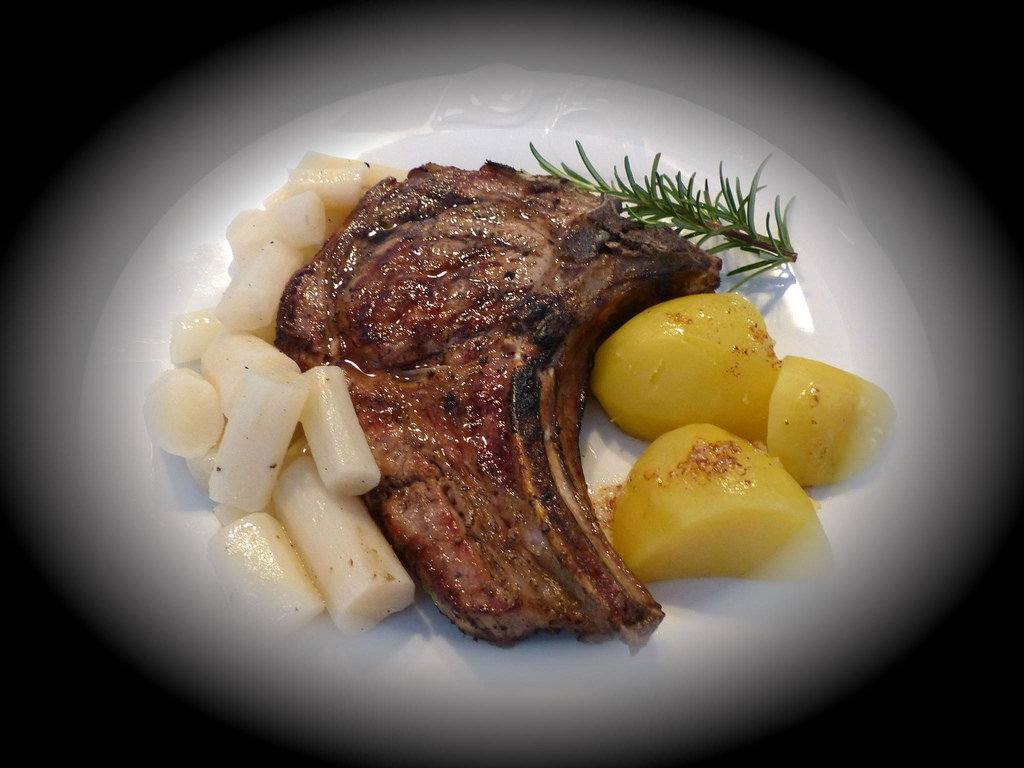boiled potatoes: (602, 298, 908, 594), (597, 416, 844, 579), (594, 292, 785, 444)
